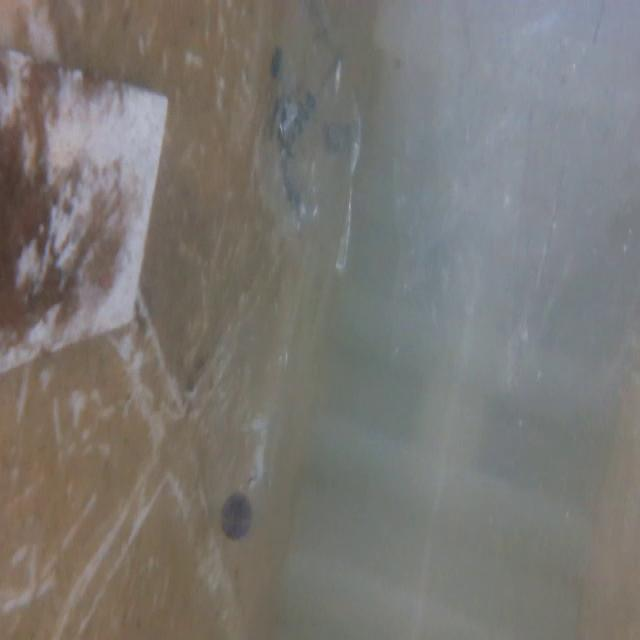metal: (0, 64, 170, 386)
plastic bags: (375, 0, 640, 399), (250, 0, 376, 273)
plastic bottle: (200, 317, 306, 539)
